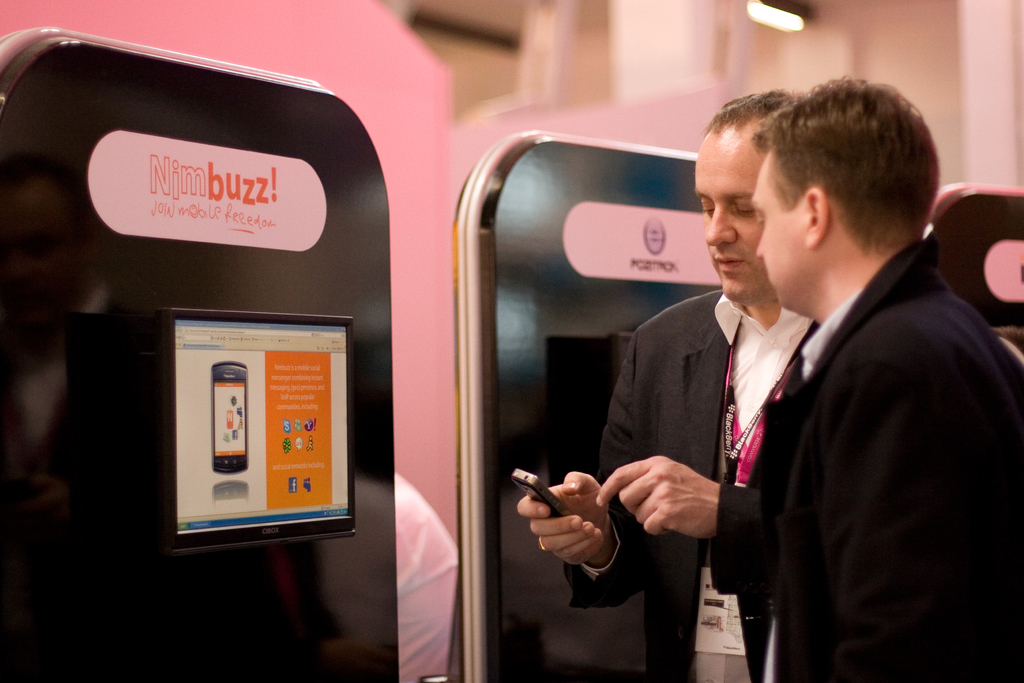Mobile-phone: (209, 360, 248, 472), (511, 465, 567, 514)
